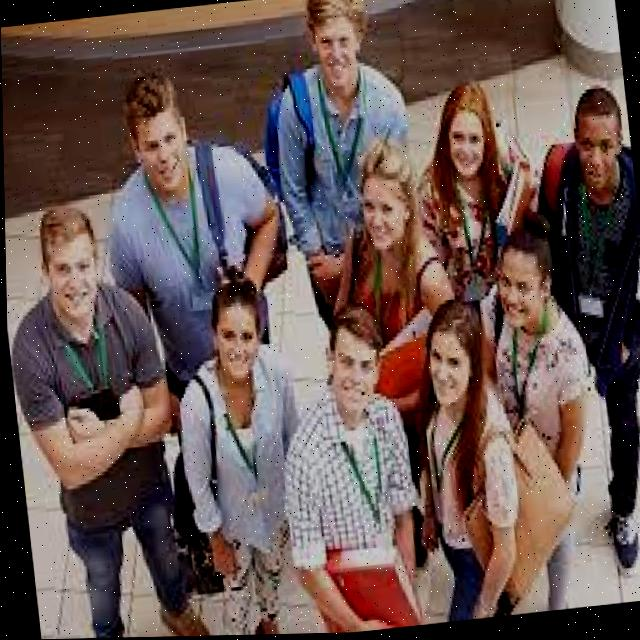id_card: (139, 169, 216, 320), (49, 317, 125, 416), (332, 423, 392, 532), (443, 181, 496, 303), (216, 375, 268, 498), (565, 189, 607, 334), (317, 84, 368, 201), (496, 317, 540, 412), (367, 247, 405, 336), (419, 416, 459, 495)
